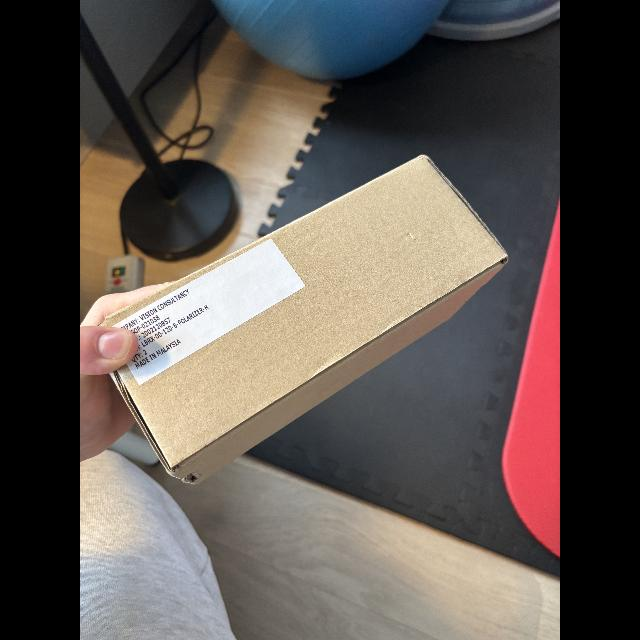Cardboard: (99, 152, 512, 480)
